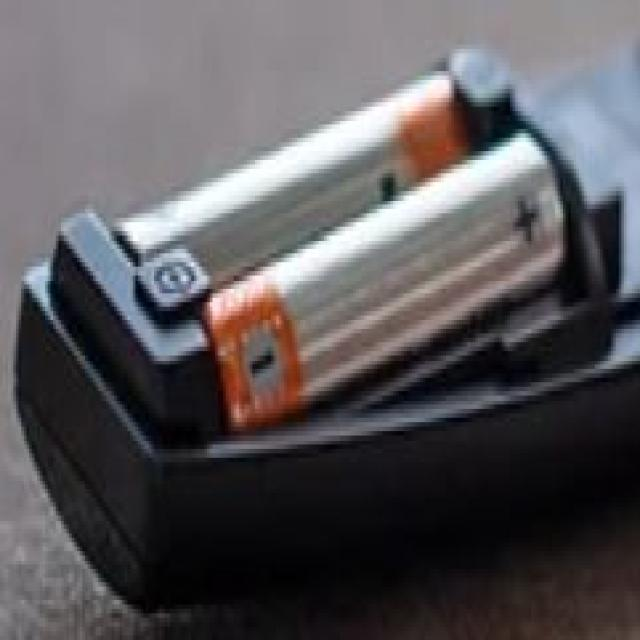electronic: (87, 48, 640, 453)
